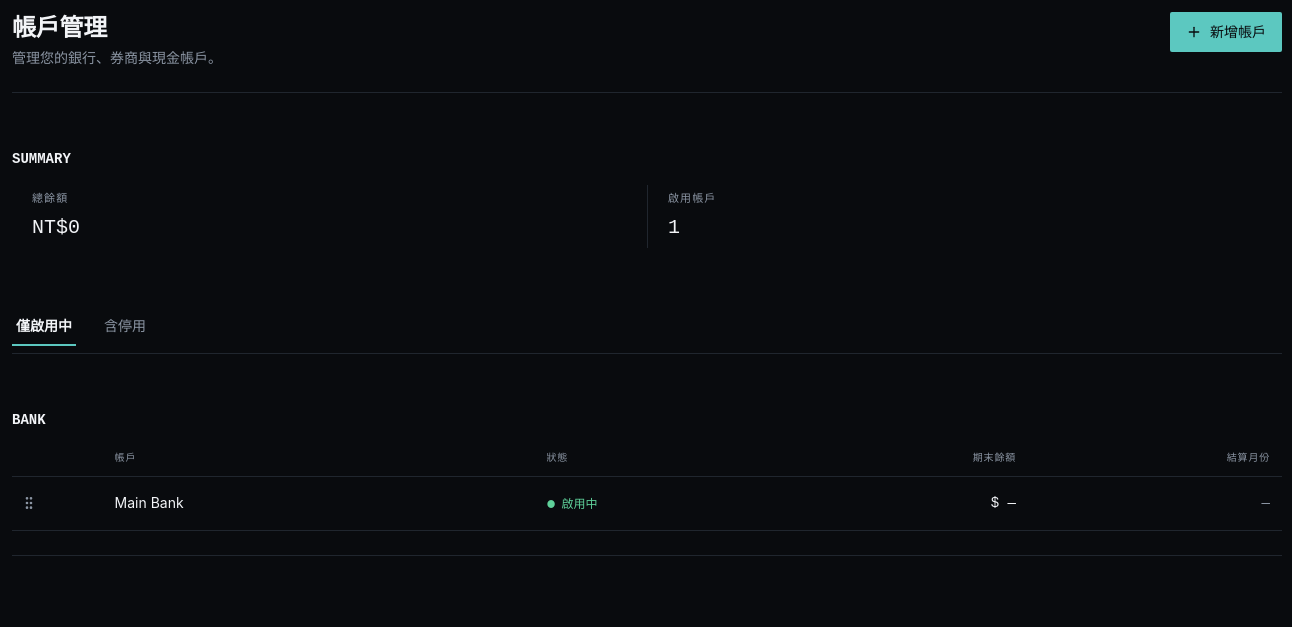
Scenario: AccountList view filter › keeps inactive accounts hidden by default and reveals them on 含停用
Check: the text "Old Bank" is not shown
Click the button "含停用".
click(125, 328)  # box left=100, top=312, right=150, bottom=346
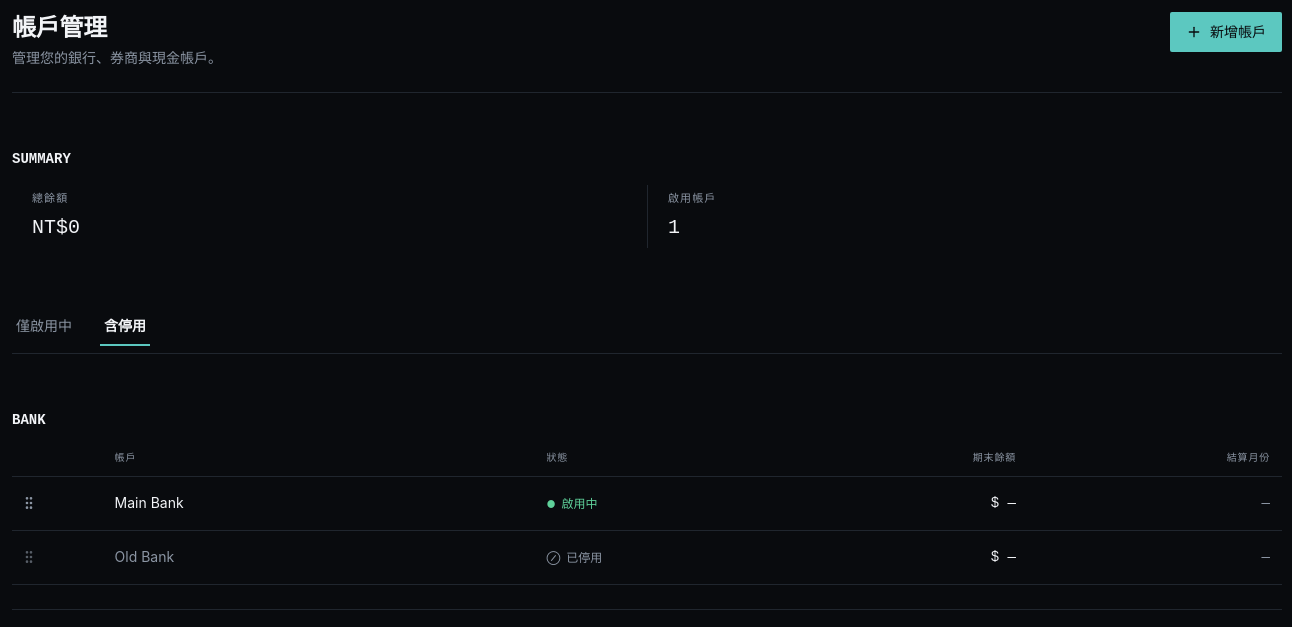
Check: the text "Old Bank" is shown 2 times
